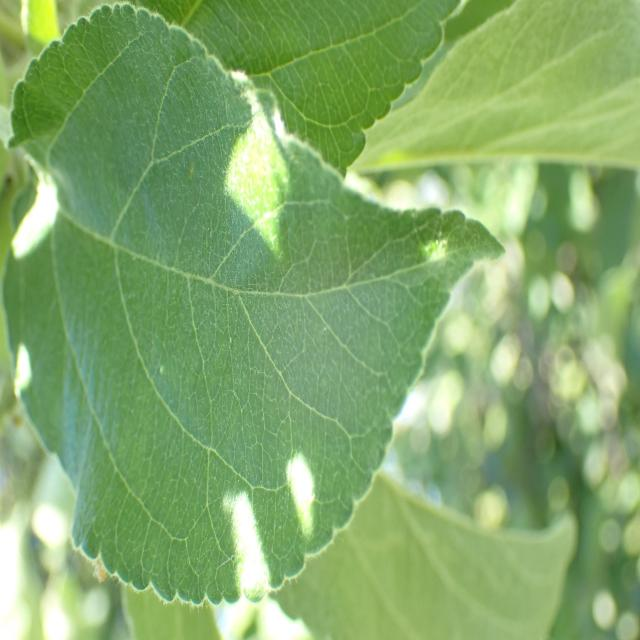healthy: (2, 2, 506, 608), (13, 0, 463, 182), (271, 469, 578, 639), (349, 0, 639, 174)
